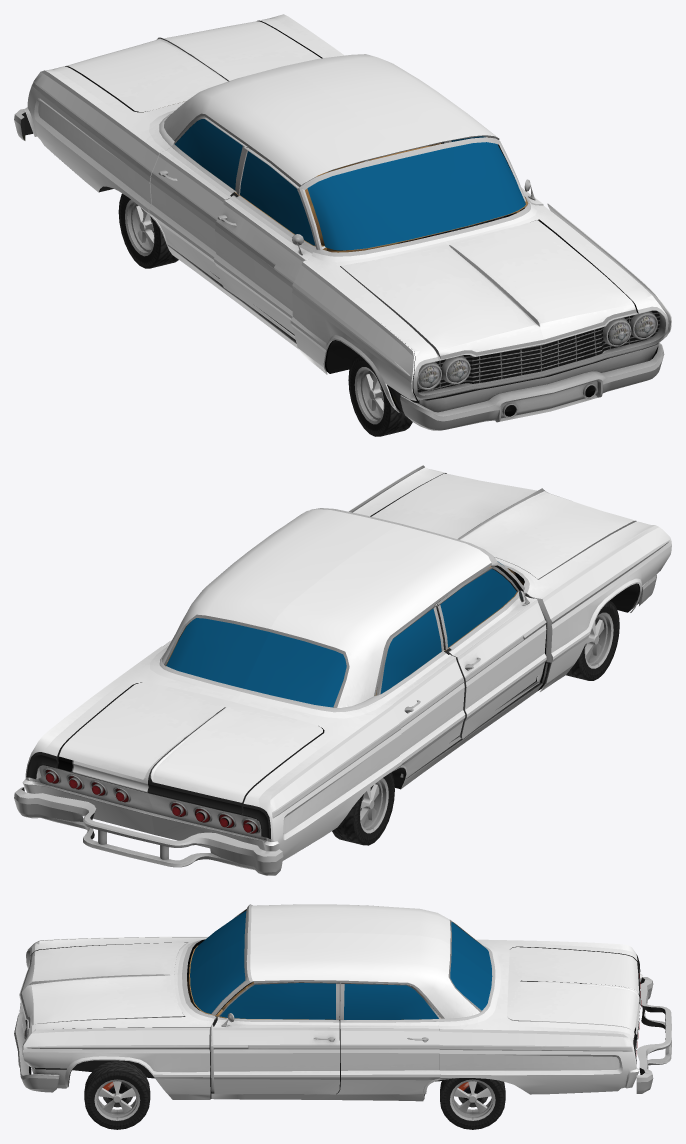
The model's file is Car0.fbx.
The picture shows the model from 3 angles, top to bottom: view 1: azimuth 30°, elevation 25°; view 2: azimuth 150°, elevation 25°; view 3: azimuth 270°, elevation 25°; orthographic projection. The views are drawn at different scales.
Visible parts, largest first — view 1: Body, DC3_Sport_2_Hood, DC3_Sport_2_Roof, DC3_Sport_2_Glass_F, DC3_Sport_2_Trunk, DC3_Sport_2_Bumper_F_3, DC3_Sport_2_Door_FR, Wing_1, DC3_Sport_2_Door_BR, DC3_Sport_2_Glass_FR, DC3_Sport_2_Glass_BR, Tire_2 (+5 smaller); view 2: Body, DC3_Sport_2_Roof, DC3_Sport_2_Trunk, DC3_Sport_2_Hood, DC3_Sport_2_Glass_B, DC3_Sport_2_Door_FR, Wing_1, DC3_Sport_2_Door_BR, DC3_Sport_2_Bumper_B_3, DC3_Sport_2_Glass_FR, DC3_Sport_2_Glass_BR, Tire_3 (+3 smaller); view 3: Body, DC3_Sport_2_Roof, DC3_Sport_2_Hood, DC3_Sport_2_Door_FR__1_, DC3_Sport_2_Trunk, Wing, DC3_Sport_1_Door_BL, DC3_Sport_2_Glass_F, DC3_Sport_2_Glass_FR_1, DC3_Sport_2_Glass_BL, DC3_Sport_2_Glass_B, Tire (+5 smaller).
Part boxes in pixels (box(x1,y1,x2,y2)): Body: box(24, 14, 668, 413); DC3_Sport_2_Hood: box(340, 220, 636, 359); DC3_Sport_2_Roof: box(164, 54, 499, 186); DC3_Sport_2_Glass_F: box(307, 142, 525, 250); DC3_Sport_2_Trunk: box(65, 21, 320, 112); DC3_Sport_2_Bumper_F_3: box(400, 342, 664, 430); DC3_Sport_2_Door_FR: box(214, 147, 326, 339); Wing_1: box(290, 259, 416, 412); DC3_Sport_2_Door_BR: box(149, 117, 248, 284); DC3_Sport_2_Glass_FR: box(240, 151, 315, 245); DC3_Sport_2_Glass_BR: box(174, 119, 242, 190); Tire_2: box(348, 355, 412, 436); Body: box(22, 467, 653, 860); DC3_Sport_2_Roof: box(162, 509, 491, 707); DC3_Sport_2_Trunk: box(57, 682, 322, 814); DC3_Sport_2_Hood: box(372, 473, 636, 579); DC3_Sport_2_Glass_B: box(166, 618, 346, 707); DC3_Sport_2_Door_FR: box(434, 566, 546, 738); Wing_1: box(534, 525, 671, 691); DC3_Sport_2_Door_BR: box(375, 605, 465, 778); DC3_Sport_2_Bumper_B_3: box(14, 787, 283, 875); DC3_Sport_2_Glass_FR: box(440, 569, 516, 647); DC3_Sport_2_Glass_BR: box(380, 608, 441, 693); Tire_3: box(332, 772, 394, 845); Body: box(19, 904, 642, 1101); DC3_Sport_2_Roof: box(250, 904, 482, 1019); DC3_Sport_2_Hood: box(20, 942, 187, 1027); DC3_Sport_2_Door_FR__1_: box(213, 982, 339, 1094); DC3_Sport_2_Trunk: box(507, 947, 640, 1040); Wing: box(23, 1027, 210, 1099); DC3_Sport_1_Door_BL: box(336, 982, 440, 1094); DC3_Sport_2_Glass_F: box(190, 911, 246, 1013); DC3_Sport_2_Glass_FR_1: box(220, 983, 335, 1019); DC3_Sport_2_Glass_BL: box(344, 984, 438, 1019); DC3_Sport_2_Glass_B: box(450, 922, 492, 1010); Tire: box(84, 1061, 150, 1129).
Size of the model in its own units: 310 by 209 by 833.
